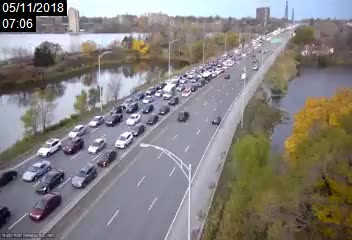congestion: (1, 119, 129, 226), (75, 80, 175, 135), (155, 67, 215, 94), (195, 55, 235, 72)
personal_car: (31, 192, 62, 221), (32, 169, 65, 191), (72, 163, 99, 187), (23, 160, 50, 182), (38, 137, 63, 158), (96, 150, 117, 168), (1, 165, 17, 187), (88, 137, 107, 155), (62, 138, 84, 153), (116, 131, 135, 148), (1, 202, 12, 226), (130, 122, 145, 136), (70, 125, 85, 139), (176, 110, 190, 124), (126, 113, 142, 125), (89, 114, 105, 126), (141, 94, 158, 104), (181, 86, 193, 99), (145, 113, 158, 125), (140, 103, 154, 114), (106, 114, 120, 125), (163, 88, 176, 99), (121, 97, 134, 108), (109, 105, 122, 115), (167, 95, 181, 104), (195, 77, 206, 88), (211, 114, 222, 125), (125, 102, 137, 112), (134, 91, 146, 100), (157, 105, 169, 114), (145, 85, 156, 94), (188, 83, 198, 91), (176, 83, 185, 91), (157, 80, 165, 89), (179, 77, 188, 84), (165, 77, 172, 86), (154, 89, 163, 96), (192, 74, 198, 83), (172, 75, 179, 82)
